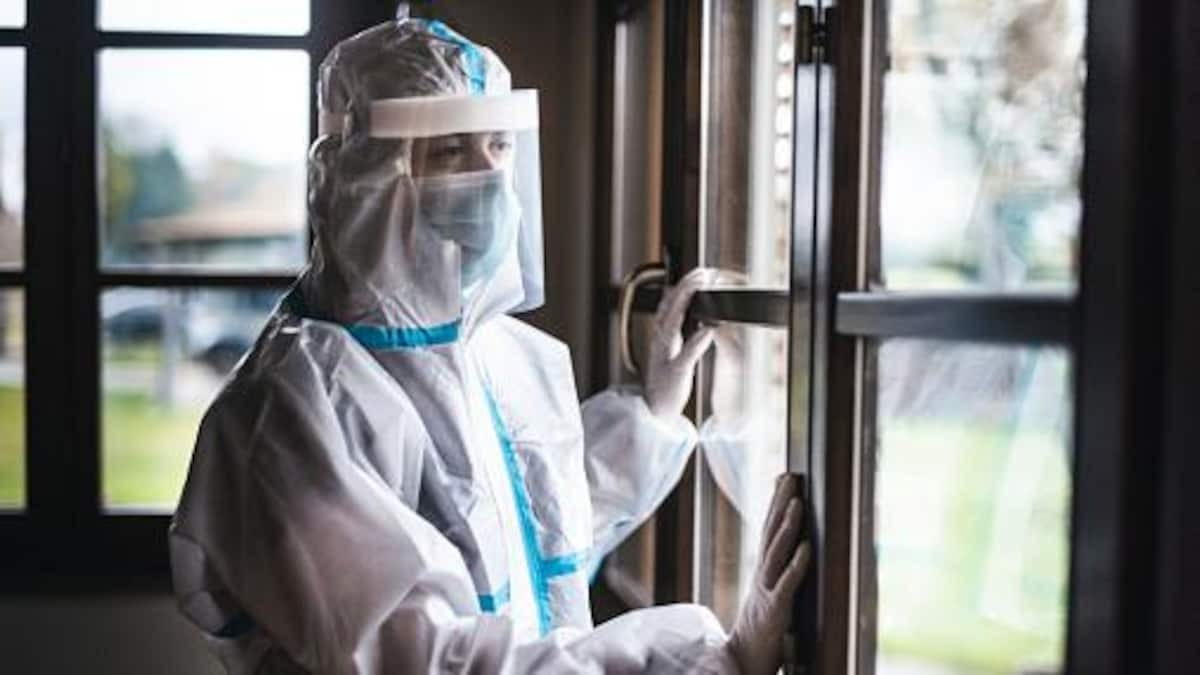Coverall: (168, 18, 733, 675)
Face_Shield: (303, 82, 547, 321)
Gloves: (732, 469, 813, 674), (628, 266, 733, 421)
with_mask: (410, 135, 521, 295)
